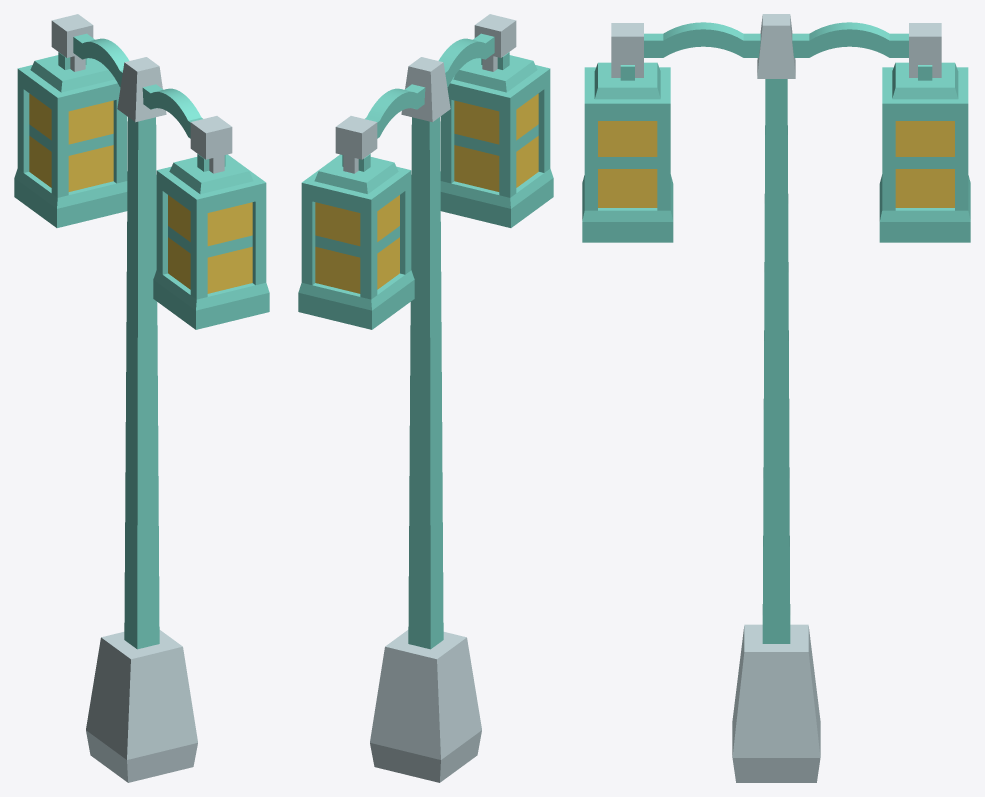
File: lightpostDouble.glb
The picture shows the model from 3 angles, left to right: view 1: azimuth 30°, elevation 25°; view 2: azimuth 150°, elevation 25°; view 3: azimuth 270°, elevation 25°; orthographic projection. The views are drawn at different scales.
Visible parts, largest first — view 1: lightpostDouble; view 2: lightpostDouble; view 3: lightpostDouble.
Boxes of the visible parts, box(x1,y1,x2,y2) form: lightpostDouble: box(14, 14, 269, 782); lightpostDouble: box(298, 14, 553, 782); lightpostDouble: box(582, 14, 970, 782).
Bounding box in the file's own units: 0.1459 × 1.32 × 0.6225.
